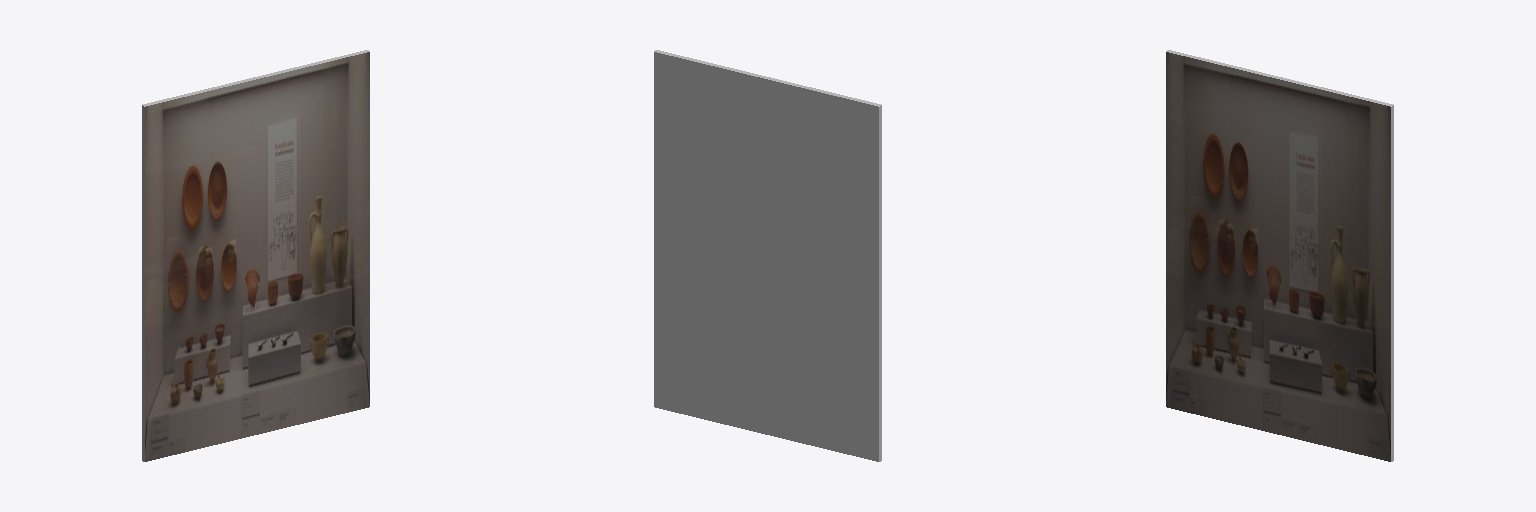
The picture shows the model from 3 angles: view 1: azimuth 30°, elevation 25°; view 2: azimuth 150°, elevation 25°; view 3: azimuth 330°, elevation 25°; orthographic projection.
Visible parts, largest first — view 1: SketchUp.001_ID10, SketchUp_ID2; view 2: SketchUp_ID2; view 3: SketchUp.001_ID10, SketchUp_ID2.
Boxes of the visible parts, <box> form: SketchUp.001_ID10: <box>145,52,369,461</box>; SketchUp_ID2: <box>142,50,369,461</box>; SketchUp_ID2: <box>654,50,881,461</box>; SketchUp.001_ID10: <box>1166,52,1390,461</box>; SketchUp_ID2: <box>1166,50,1393,461</box>.
Bounding box in the file's own units: 188 × 283 × 3.94.
2 materials, 1 textured.